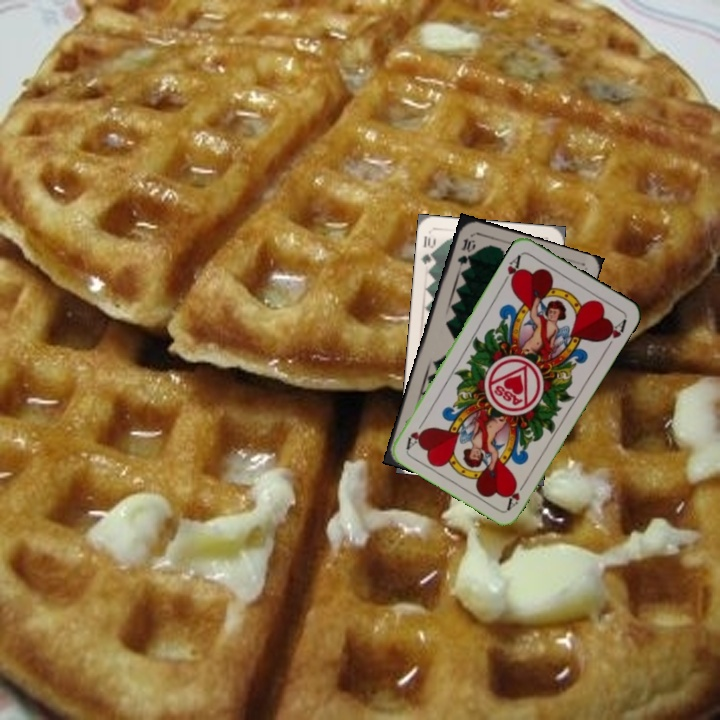G10: (453, 234, 477, 272), (417, 231, 439, 267)
HA: (503, 475, 530, 512), (498, 251, 524, 289)
